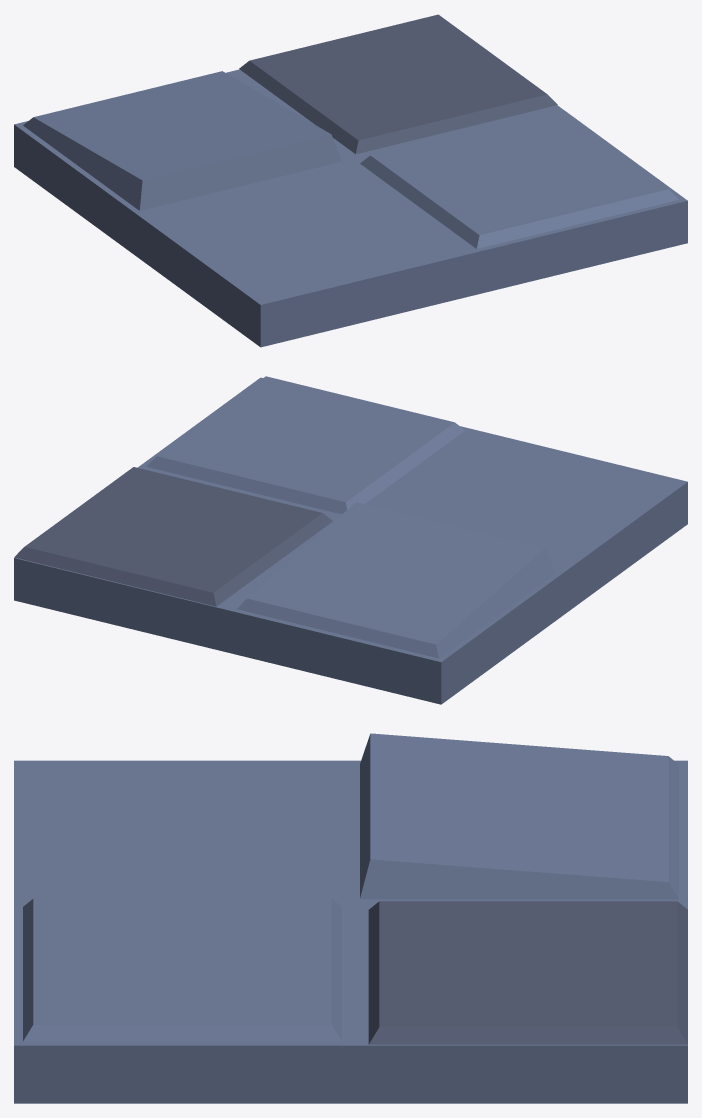
Rendered from floor-006.glb.
3 views of the same model, one above another, from view 1: azimuth 30°, elevation 25°; view 2: azimuth 150°, elevation 25°; view 3: azimuth 270°, elevation 25° (orthographic). The views are drawn at different scales.
Parts seen in each view (by area): view 1: floor.006; view 2: floor.006; view 3: floor.006.
Part boxes in pixels (x1=…): floor.006: x1=14, y1=14, x2=687, y2=347; floor.006: x1=14, y1=376, x2=687, y2=704; floor.006: x1=14, y1=733, x2=687, y2=1103.
Bounding box in the file's own units: 2 × 0.3063 × 2.
